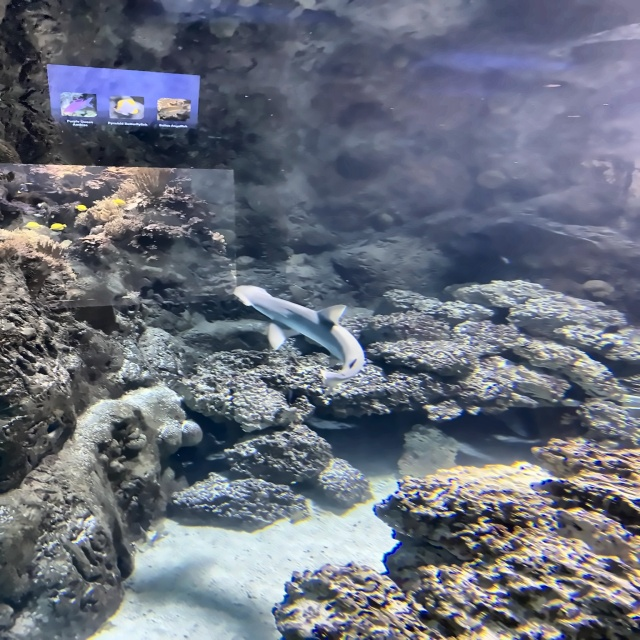shark: (234, 285, 363, 381)
